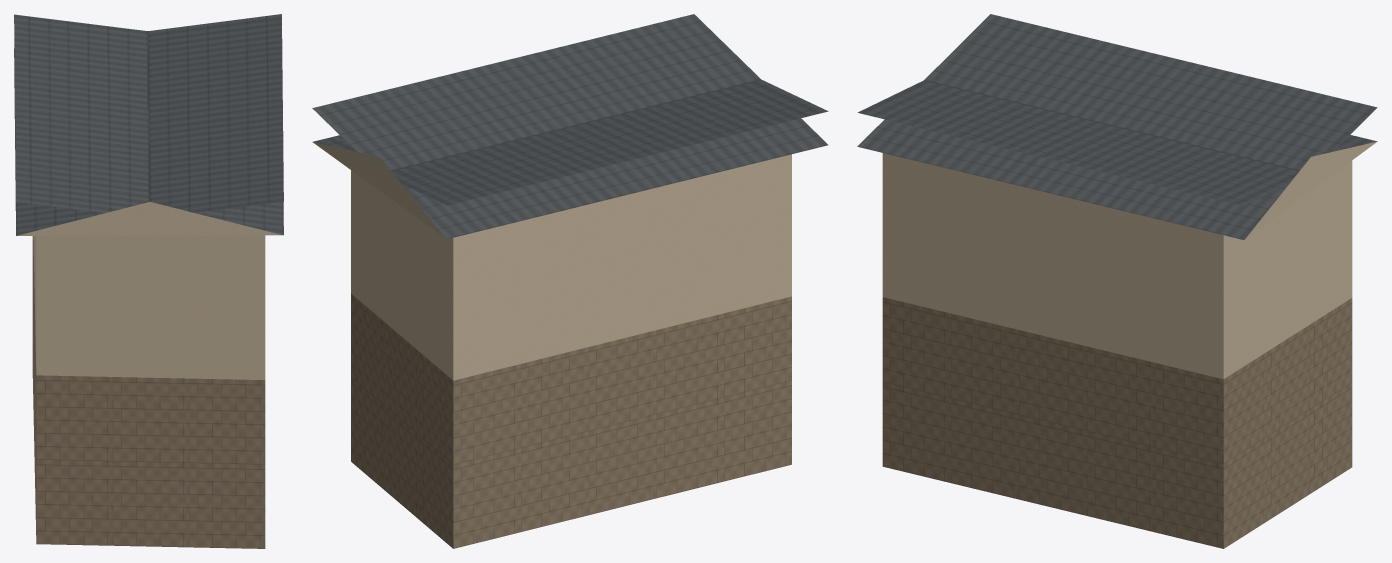
Rendered from bld_c-23_-1_670.gltf.
3 renders of one model, left to right at view 1: azimuth 30°, elevation 25°; view 2: azimuth 150°, elevation 25°; view 3: azimuth 270°, elevation 25°, orthographic.
Visible parts, largest first — view 1: bld_c-23_-1_670; view 2: bld_c-23_-1_670; view 3: bld_c-23_-1_670.
Part boxes in pixels (<box>): bld_c-23_-1_670: <box>14,14,283,548</box>; bld_c-23_-1_670: <box>312,14,828,548</box>; bld_c-23_-1_670: <box>857,14,1377,548</box>.
Bounding box in the file's own units: 12.13 × 10.5 × 13.88.
4 materials, 4 textured.
